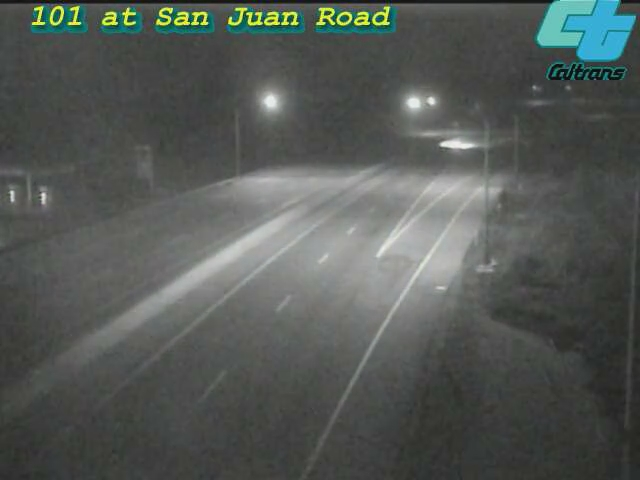vehicle: (433, 119, 483, 169)
